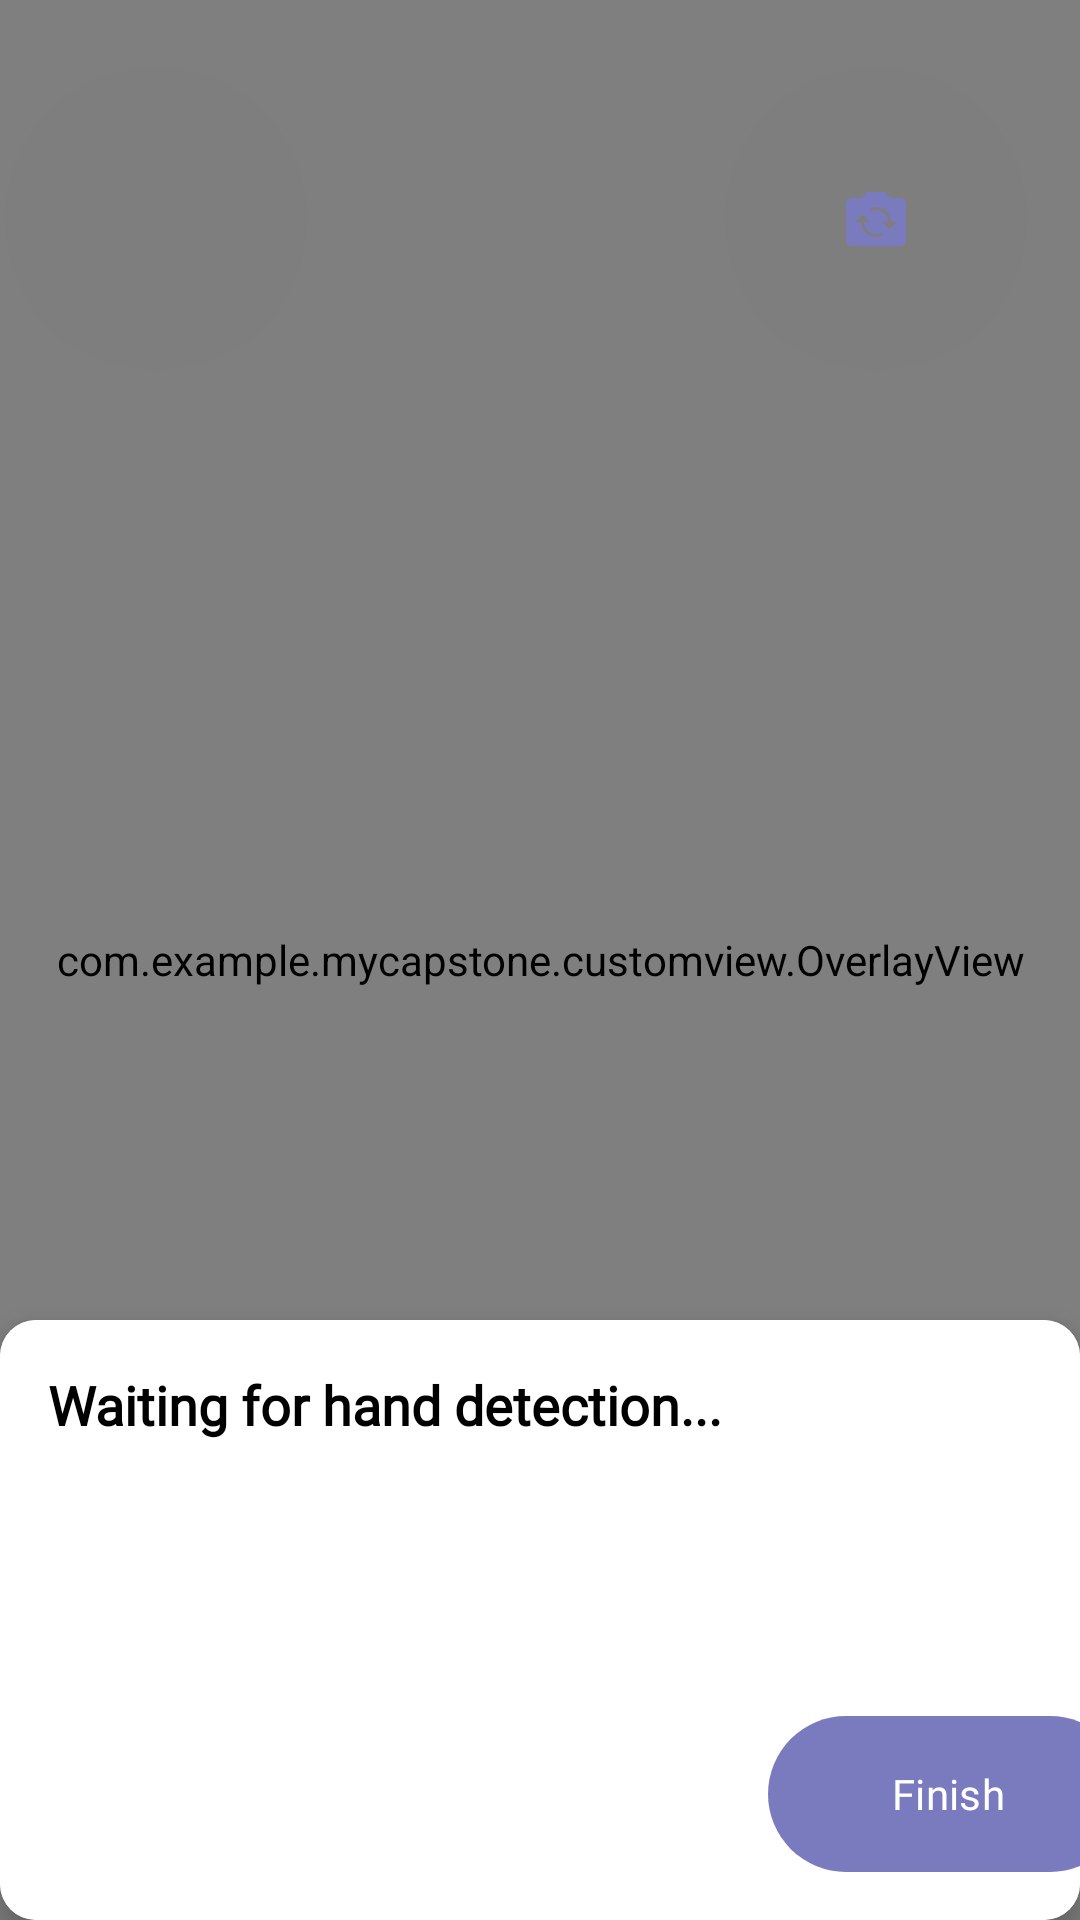

Point at icon controls on the screen. Image size 1080 x 1920, points as [x,y].
switch camera: [876,219]
